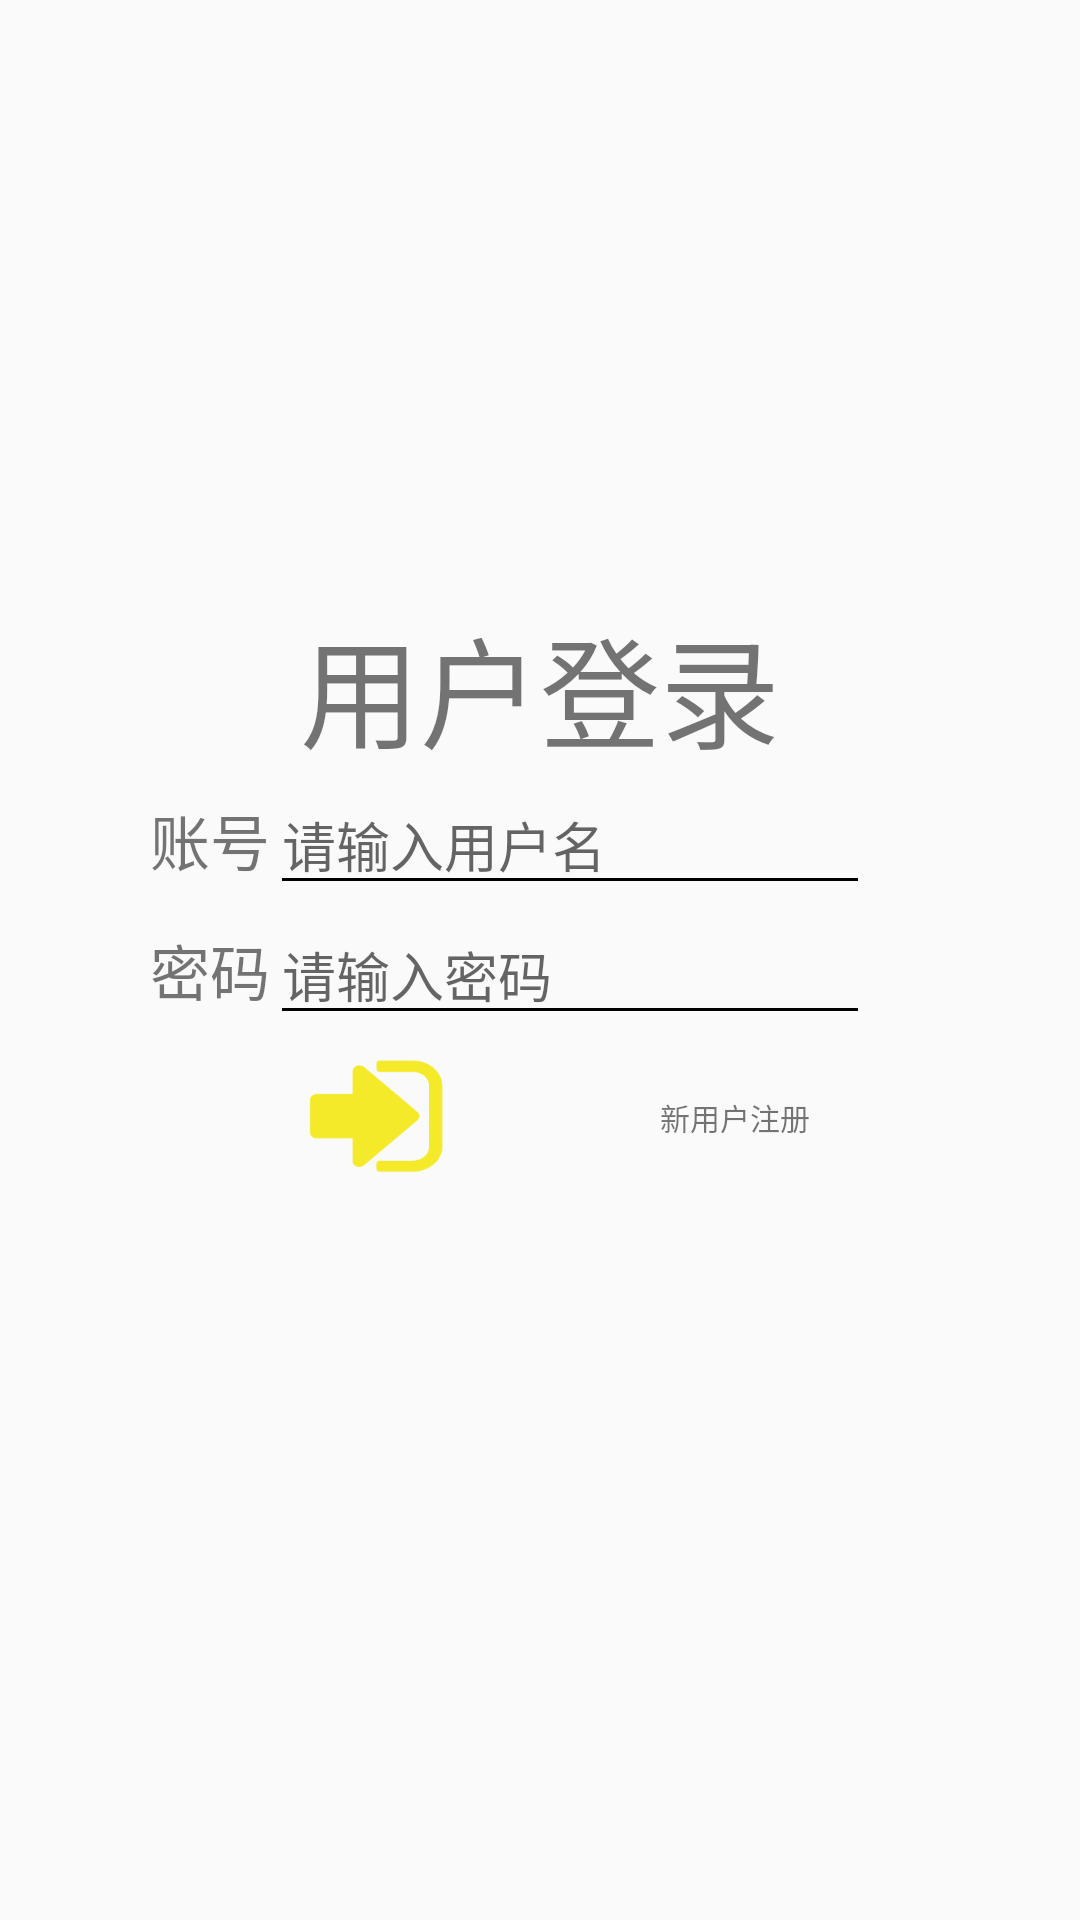

Locate icon controls on the screen. Image size 1080*1920, boxes as [x1, y1, x2, y2].
login: [309, 1060, 443, 1172]
